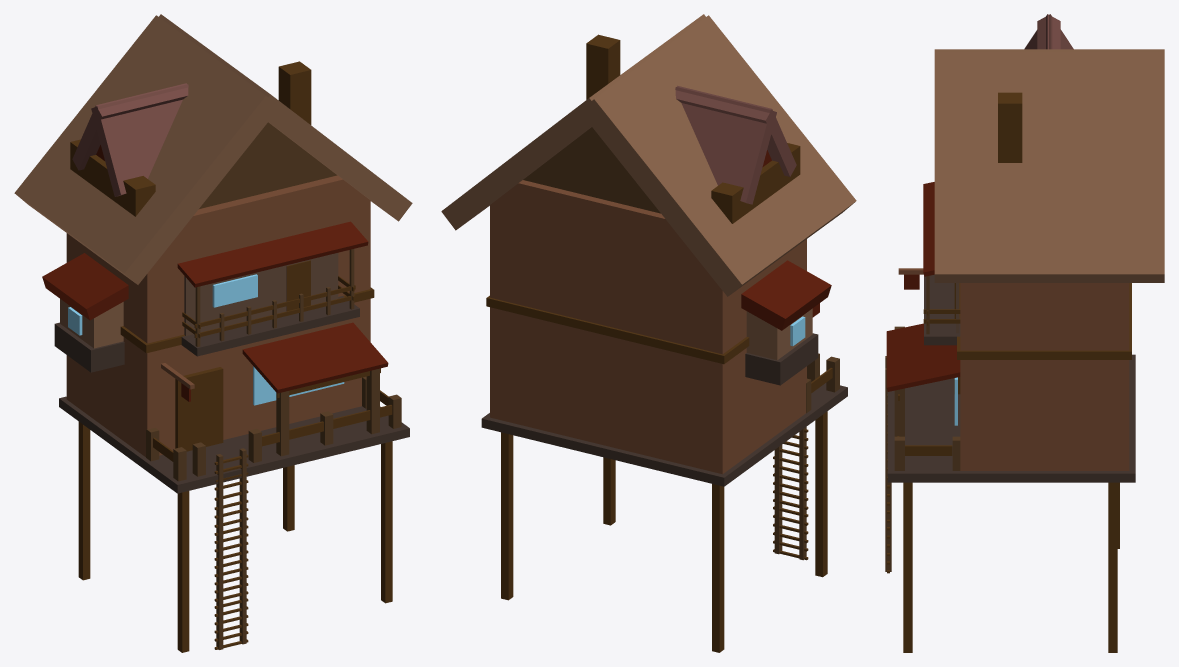
File: house.fbx
The picture shows the model from 3 angles, left to right: view 1: azimuth 30°, elevation 25°; view 2: azimuth 150°, elevation 25°; view 3: azimuth 270°, elevation 25°; orthographic projection. The views are drawn at different scales.
Parts seen in each view (by area): view 1: Cube, Cube.001, Cube.009, Cube.010, Cube.046, Cube.004, Cube.011, Cube.003, Cube.007, Cube.006, Cube.018, Cube.030 (+20 smaller); view 2: Cube, Cube.001, Cube.012, Cube.009, Cube.003, Cube.002, Cube.018, Cube.049, Cube.011, Cube.013, Cube.055, Cube.053 (+7 smaller); view 3: Cube.003, Cube, Cube.009, Cube.010, Cube.049, Cube.005, Cube.030, Cube.053, Cube.054, Cube.046, Cube.057, Cube.001 (+4 smaller).
Boxes of the visible parts, left/top/right/bottom form: Cube: left=66, top=175, right=370, bottom=456; Cube.001: left=14, top=15, right=279, bottom=284; Cube.009: left=59, top=396, right=409, bottom=493; Cube.010: left=242, top=322, right=388, bottom=393; Cube.046: left=177, top=221, right=368, bottom=287; Cube.004: left=199, top=122, right=337, bottom=208; Cube.011: left=91, top=84, right=188, bottom=196; Cube.003: left=159, top=14, right=412, bottom=221; Cube.007: left=184, top=253, right=338, bottom=335; Cube.006: left=175, top=367, right=223, bottom=451; Cube.018: left=42, top=253, right=128, bottom=320; Cube.030: left=181, top=296, right=359, bottom=356; Cube: left=490, top=180, right=806, bottom=474; Cube.001: left=579, top=15, right=856, bottom=296; Cube.012: left=675, top=87, right=776, bottom=204; Cube.009: left=481, top=383, right=847, bottom=486; Cube.003: left=441, top=14, right=705, bottom=230; Cube.002: left=523, top=127, right=660, bottom=213; Cube.018: left=741, top=260, right=831, bottom=330; Cube.049: left=486, top=295, right=749, bottom=364; Cube.011: left=675, top=85, right=796, bottom=176; Cube.013: left=711, top=143, right=800, bottom=223; Cube.055: left=712, top=484, right=724, bottom=652; Cube.053: left=501, top=432, right=513, bottom=600; Cube.003: left=934, top=51, right=1164, bottom=282; Cube: left=960, top=283, right=1129, bottom=470; Cube.009: left=887, top=354, right=1135, bottom=482; Cube.010: left=886, top=323, right=960, bottom=391; Cube.049: left=957, top=283, right=1131, bottom=359; Cube.005: left=998, top=92, right=1022, bottom=162; Cube.030: left=924, top=274, right=960, bottom=345; Cube.053: left=1108, top=482, right=1117, bottom=652; Cube.054: left=903, top=482, right=912, bottom=652; Cube.046: left=923, top=182, right=934, bottom=276; Cube.057: left=885, top=368, right=891, bottom=571; Cube.001: left=934, top=49, right=1164, bottom=51.
Size of the model in its own units: 5294 by 8946 by 4141.
